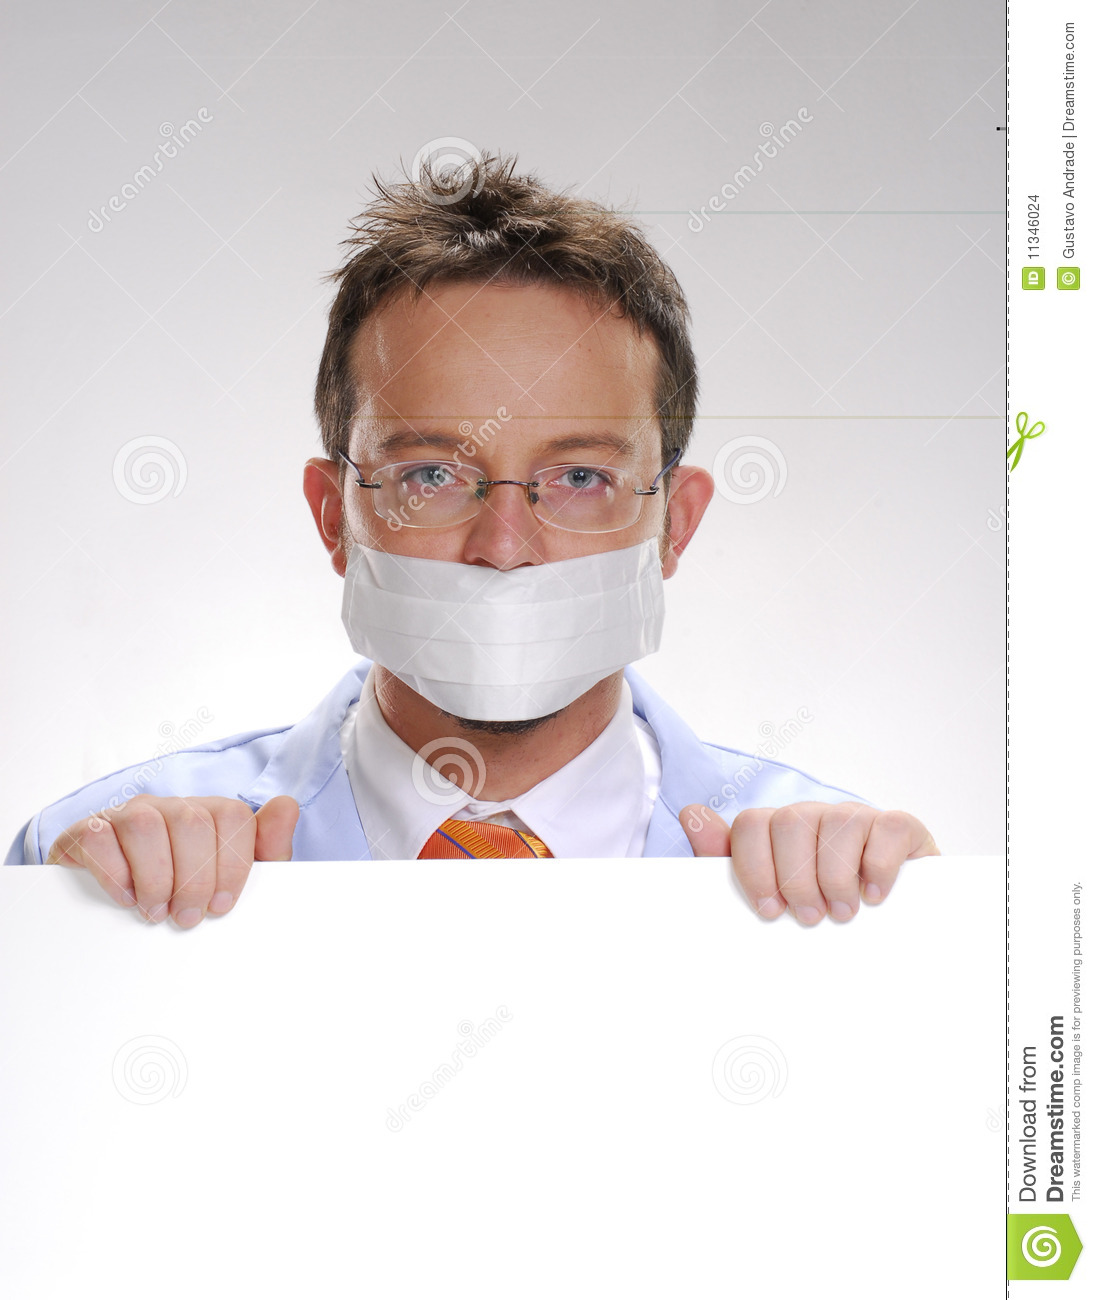mask: (322, 521, 686, 735)
